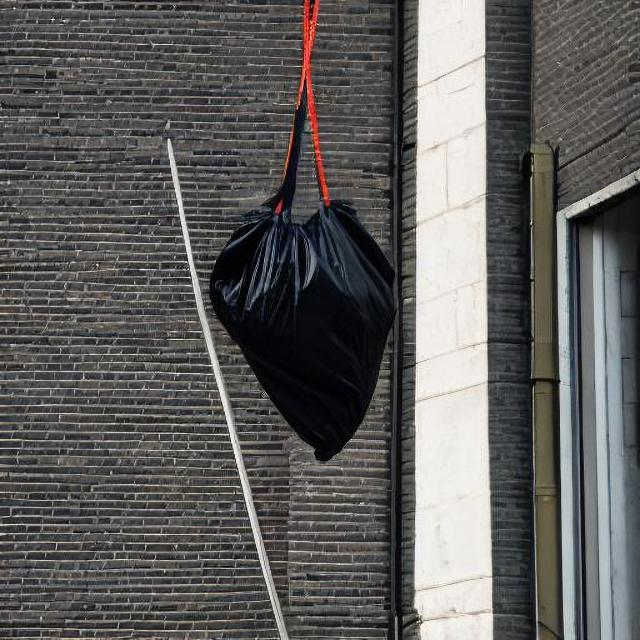plastic bag: (210, 192, 400, 456)
